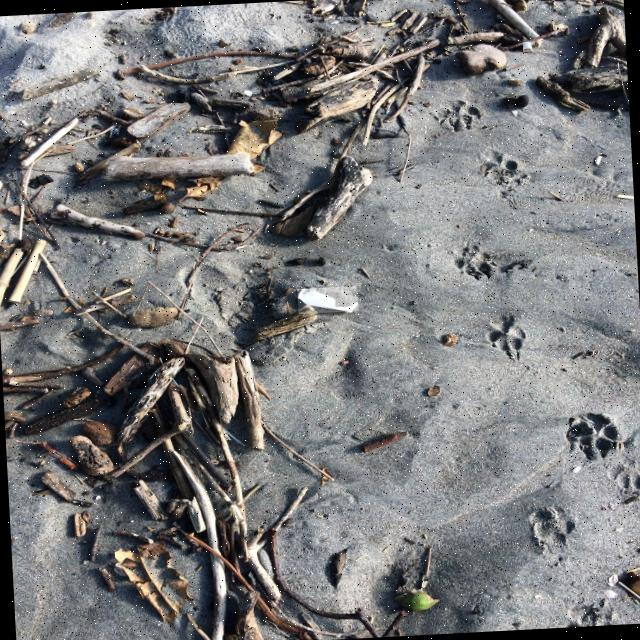Other plastic bottle: (298, 289, 358, 312)
Plastic bottle cap: (523, 42, 533, 52)
